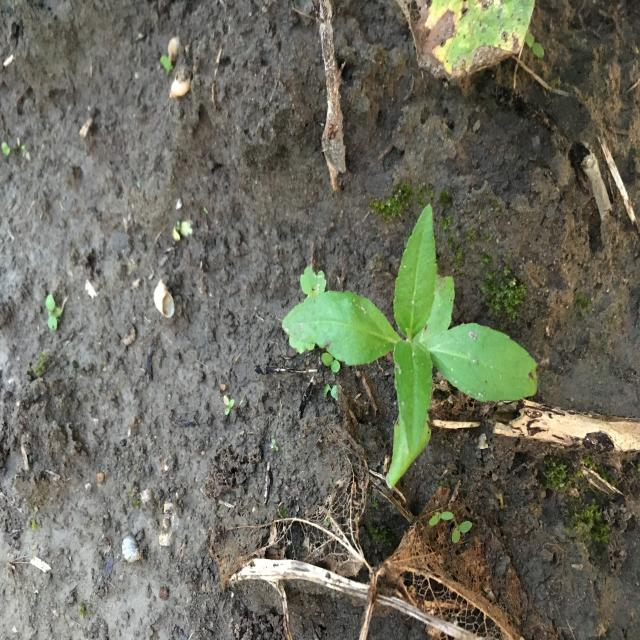Eclipta: (280, 202, 540, 490)
